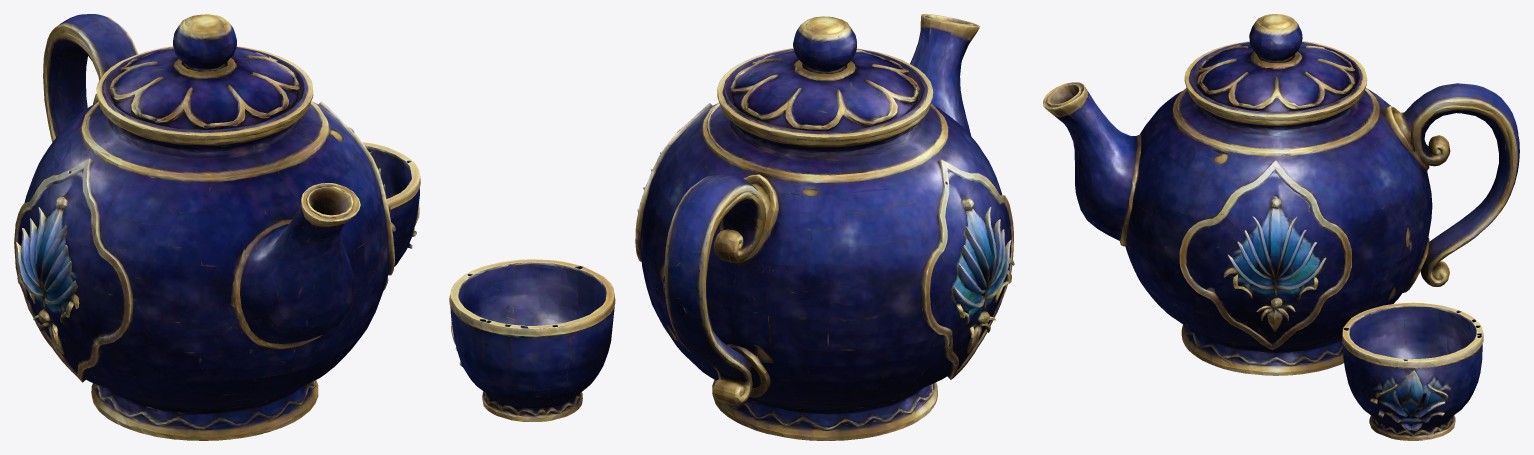
The model's file is dress-teapot.glb.
3 views of the same model, side by side, from view 1: azimuth 30°, elevation 25°; view 2: azimuth 150°, elevation 25°; view 3: azimuth 270°, elevation 25° (orthographic). The views are drawn at different scales.
Bounding box in the file's own units: 0.9328 × 0.732 × 0.9997.
Materials: 1 (1 with a texture image).
